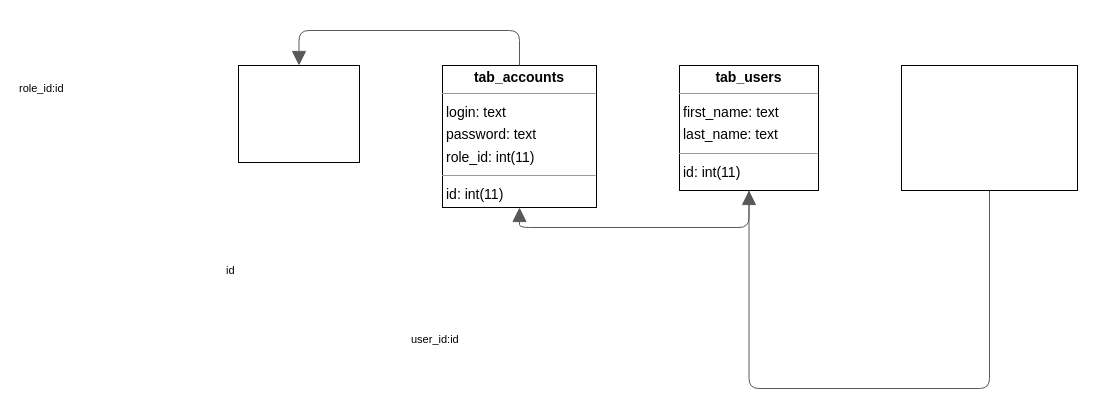
Image size: 1095x420. Some labels were removed from this diagram. Each missing label, with the centre of its shape:
"tab_roles role: text id: int(11)" goes at pixel 299 113.
"tab_user_emails user_id: int(11) email: text id: int(11)" goes at pixel 989 127.
